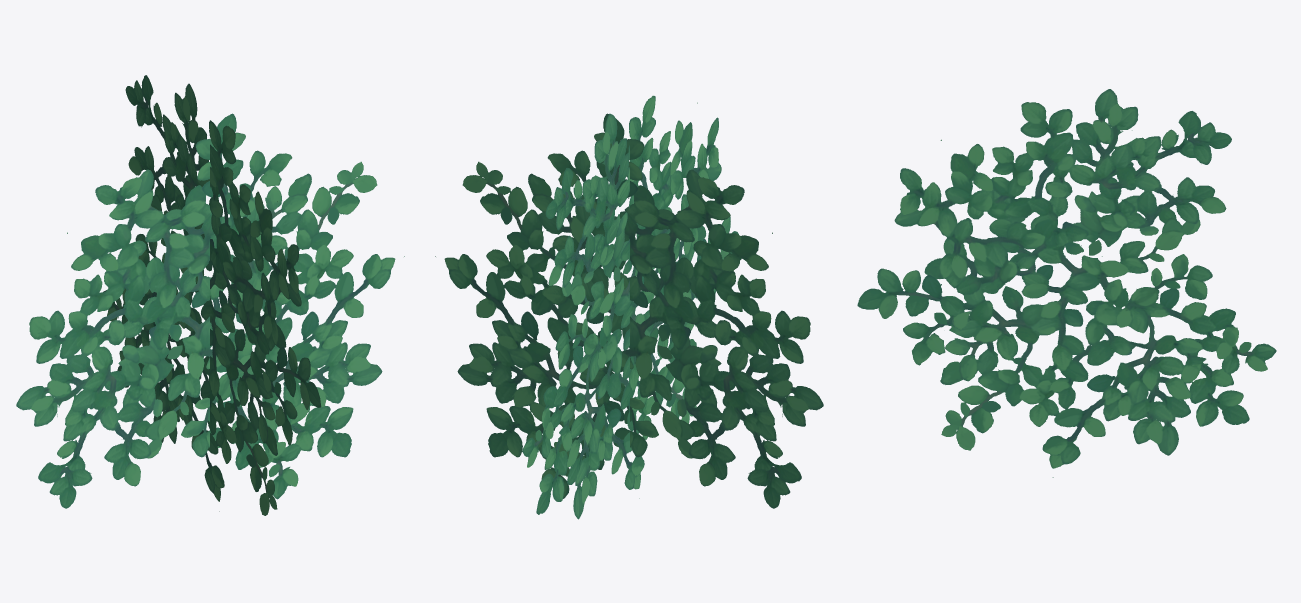
Rendered from yezi.fbx.
The picture shows the model from 3 angles, left to right: view 1: azimuth 30°, elevation 25°; view 2: azimuth 150°, elevation 25°; view 3: azimuth 270°, elevation 25°; orthographic projection. The views are drawn at different scales.
Visible parts, largest first — view 1: yezi; view 2: yezi; view 3: yezi.
Boxes of the visible parts, x1,y1,x2,y2 form: yezi: (16,75,404,515); yezi: (435,95,823,519); yezi: (857,89,1276,477).
Bounding box in the file's own units: 306 × 321 × 306.
1 material, 1 textured.
